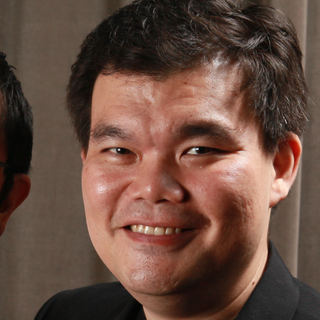eye: (175, 142, 230, 163), (94, 142, 139, 165)
